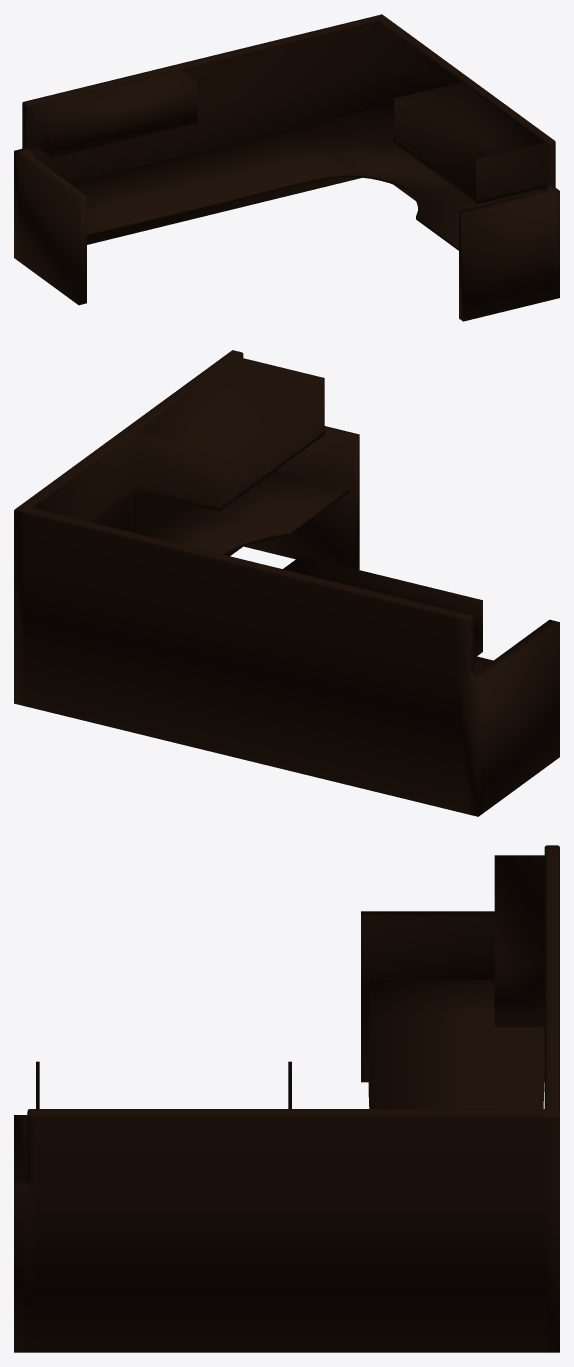
Rendered from BigCubicle.obj.
The picture shows the model from 3 angles, top to bottom: view 1: azimuth 30°, elevation 25°; view 2: azimuth 150°, elevation 25°; view 3: azimuth 270°, elevation 25°; orthographic projection. The views are drawn at different scales.
Parts seen in each view (by area): view 1: Box009; view 2: Box009; view 3: Box009.
Boxes of the visible parts, x1,y1,x2,y2 form: Box009: (14,14,559,321); Box009: (14,350,559,816); Box009: (14,845,559,1352).
Bounding box in the file's own units: 127 × 50.86 × 106.
